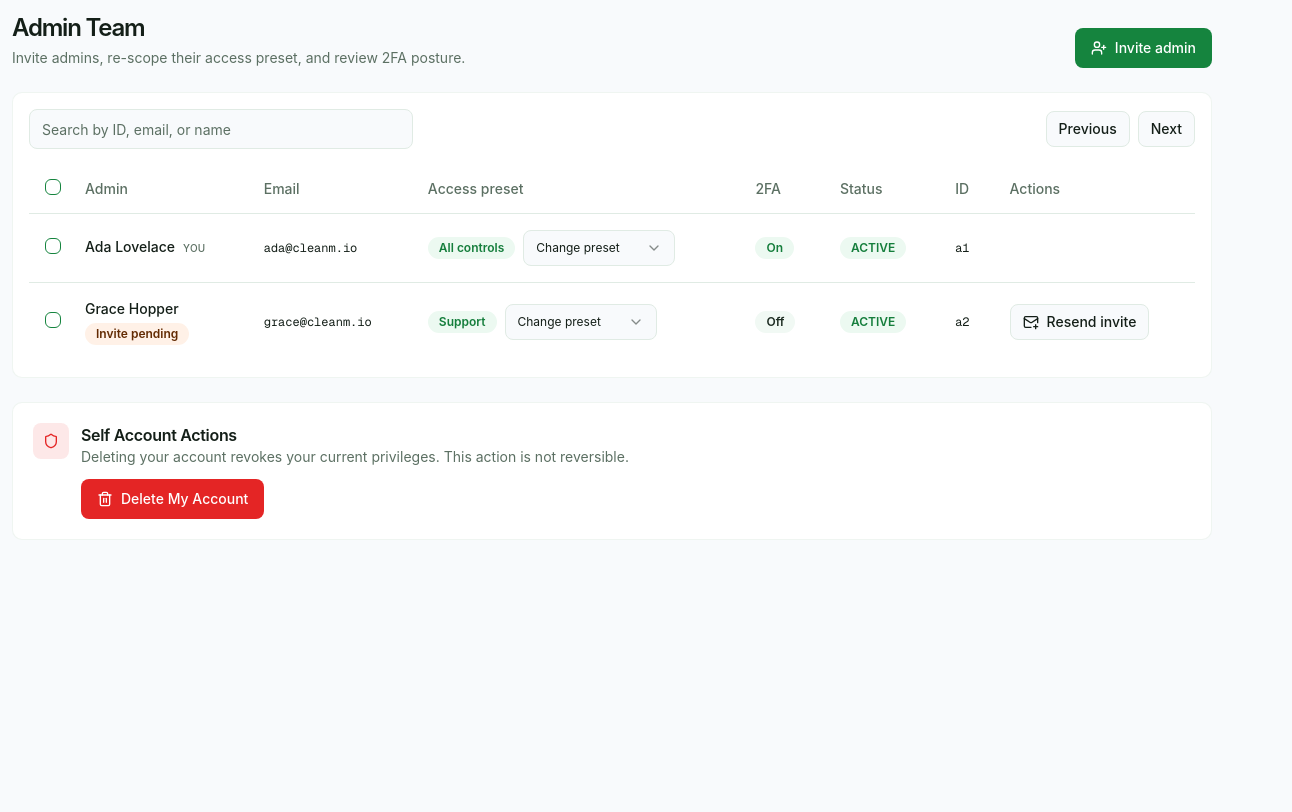
Test: admin team page › bulk-assigns a preset and lists every skipped admin with its reason
Expected: the text "Grace Hopper" is shown, [85,300,179,316]
Step 1. Click the checkbox named "Select Ada Lovelace" → point(53, 246), box [45,238,61,254]
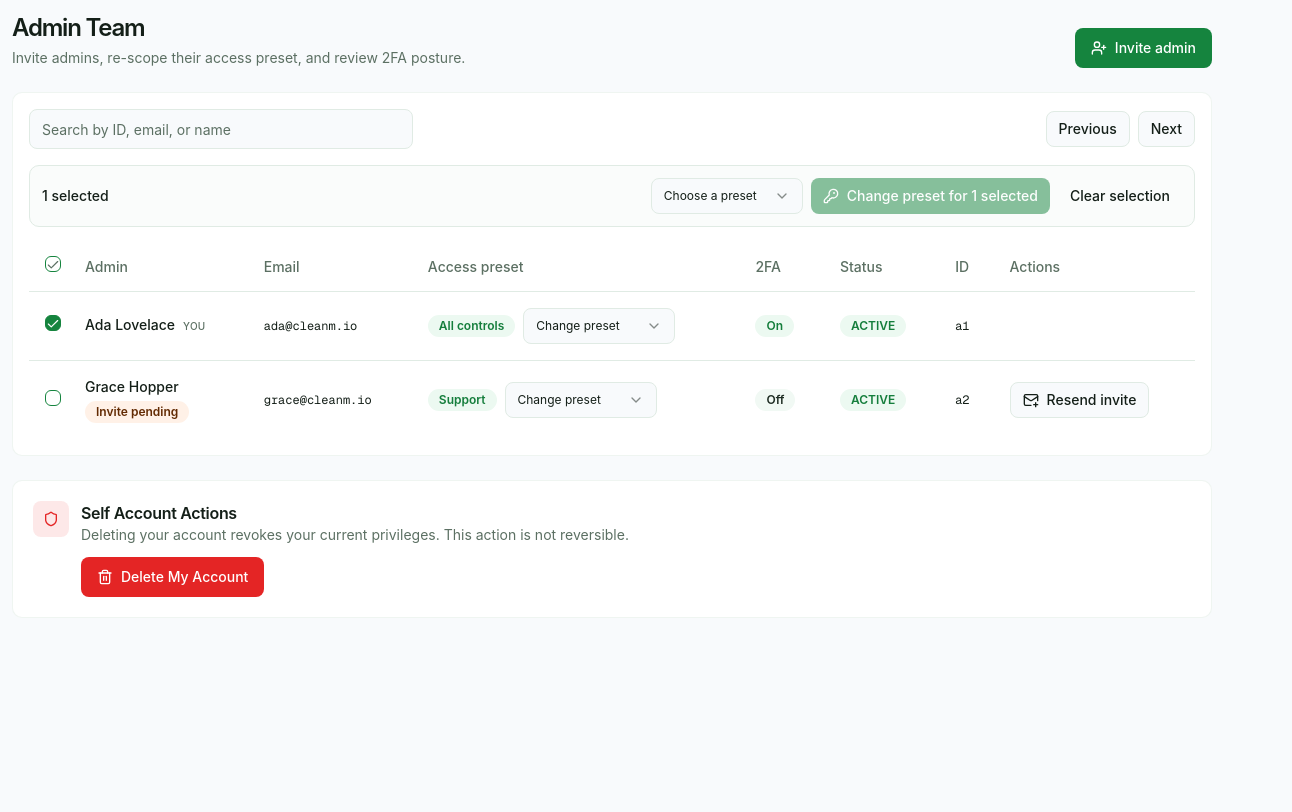
Step 2. Click the checkbox named "Select Grace Hopper" → point(53, 398), box [45,390,61,406]
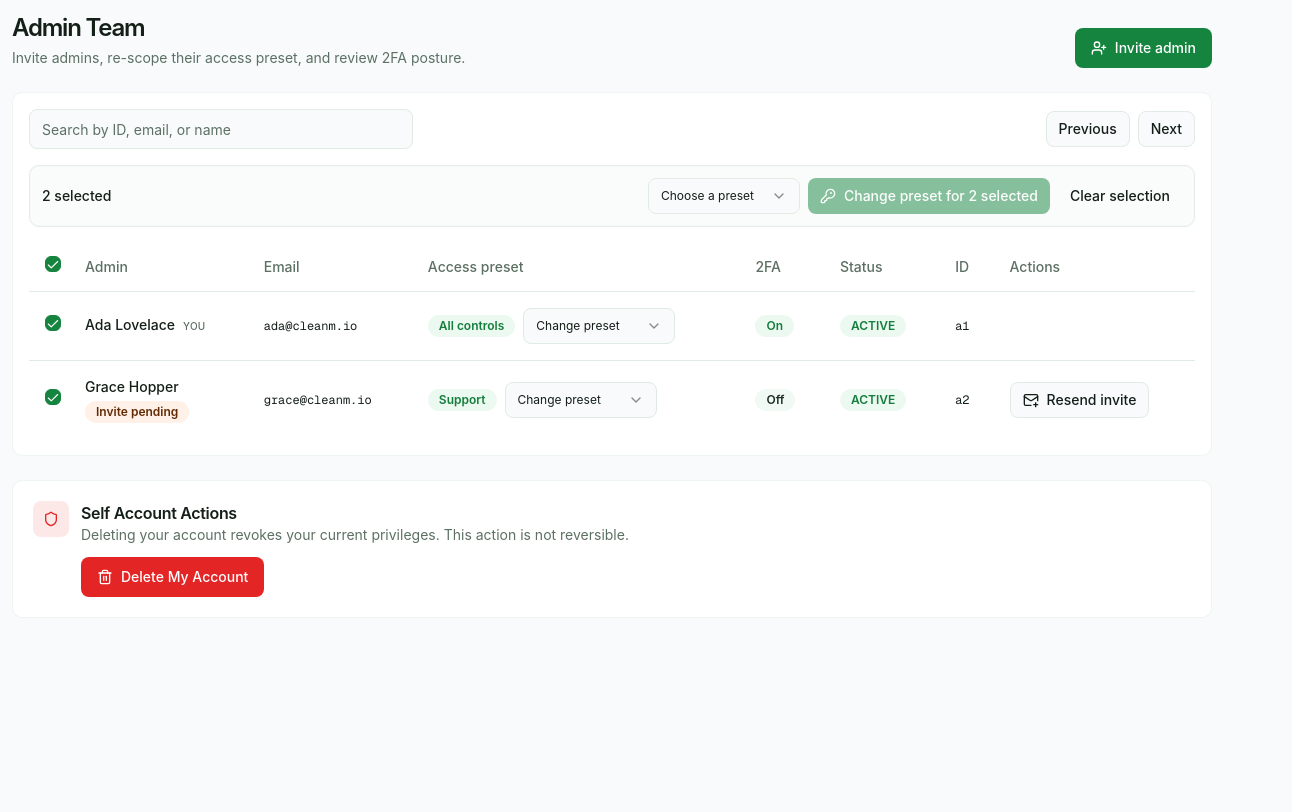
Result: the text "2 selected" is shown at [42,186,112,206]
Step 3. Press Enter in the dropdown named "Access preset for selected admins", box [648,178,800,214]
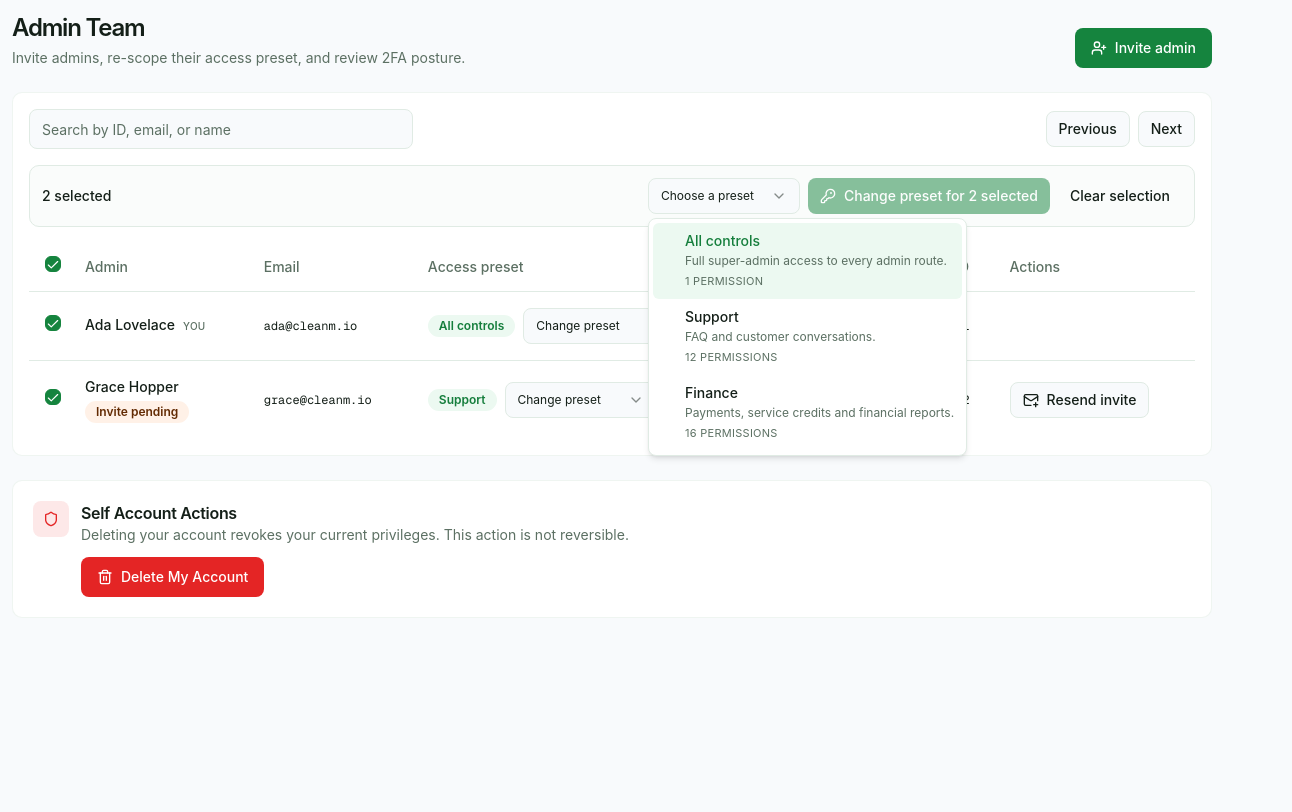
Step 4. Click the option "Support FAQ and customer conversations. 12 permissions" → point(780, 336), box [685,308,876,364]
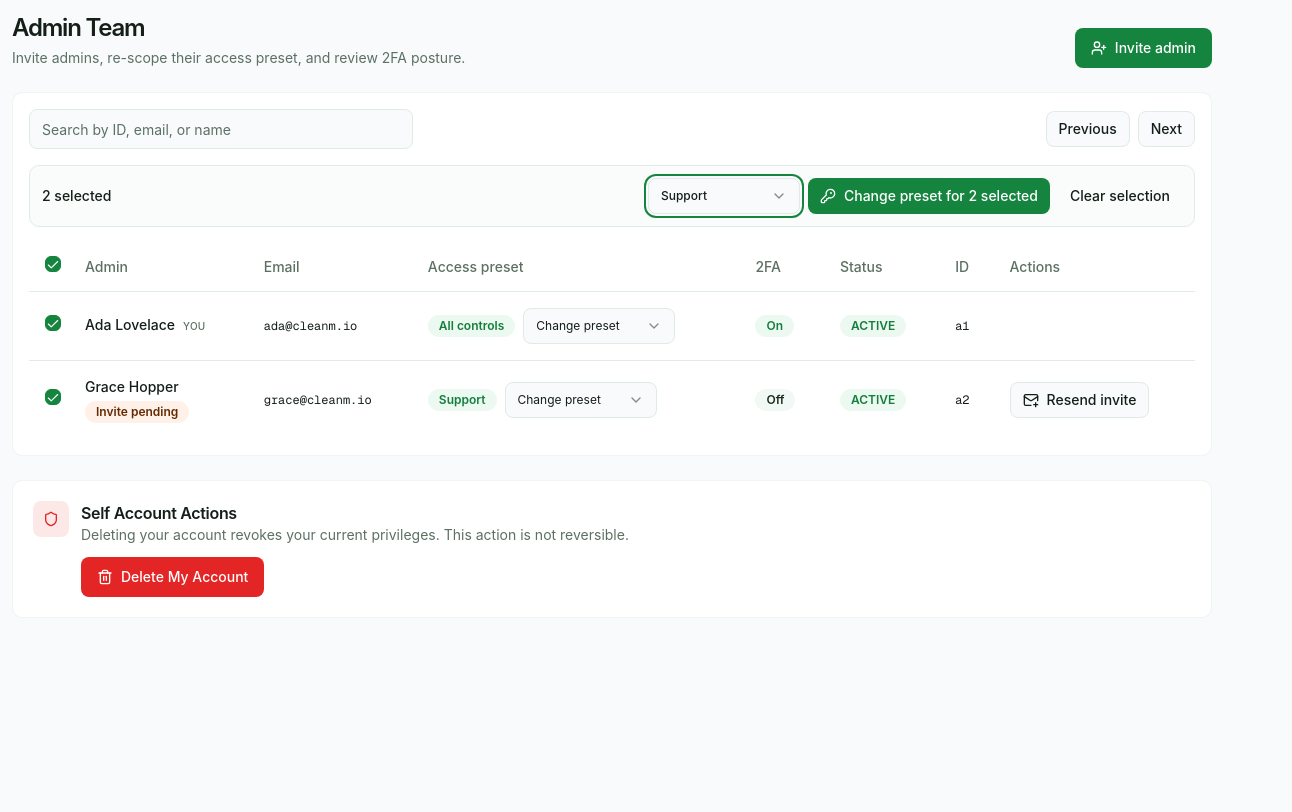
Step 5. Click the button "Change preset for 2 selected" → point(929, 196), box [808,178,1050,214]
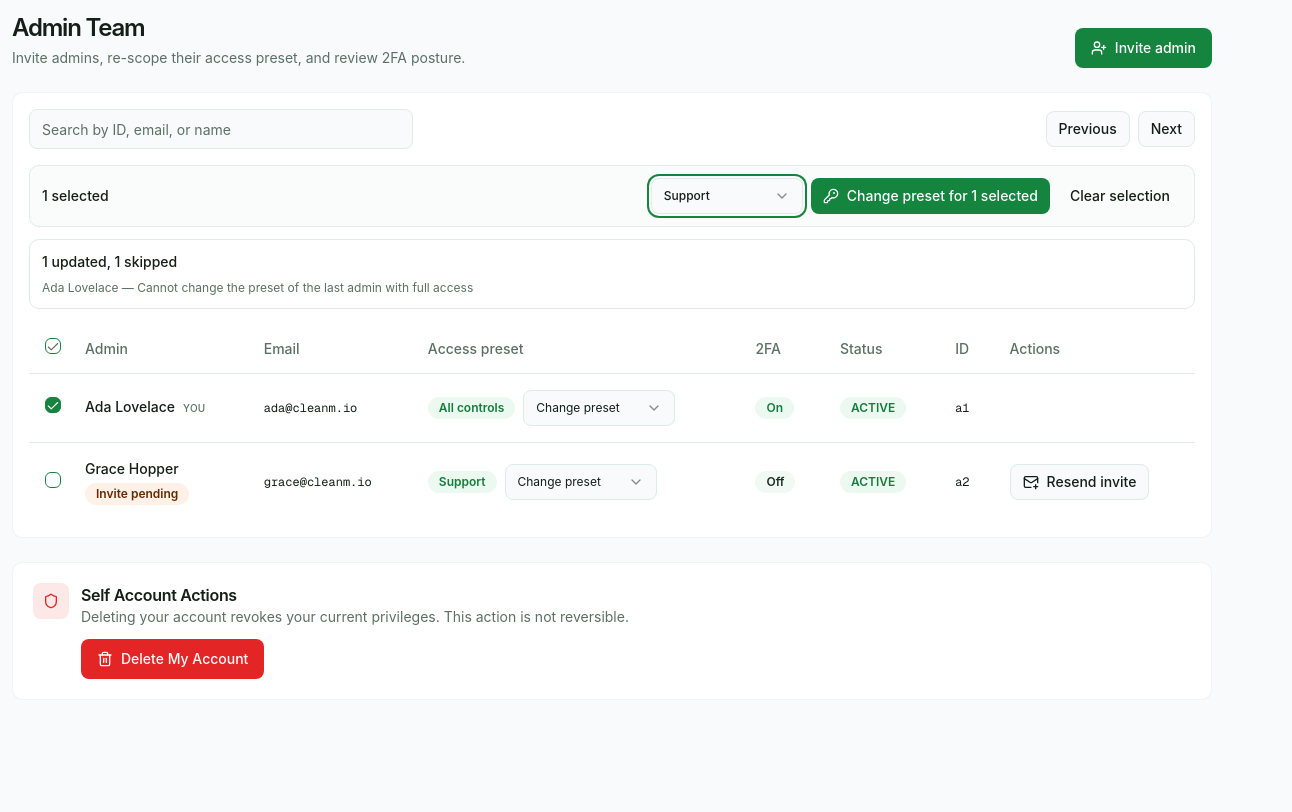
Result: the list item "Cannot change the preset of the last admin with full access" is shown at [42,280,473,295]
Result: the text "1 updated, 1 skipped" is shown at [42,253,177,270]
